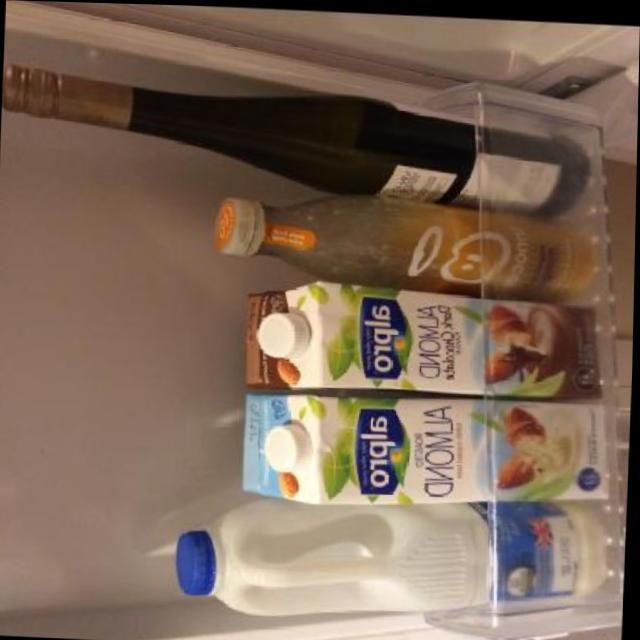cardboard: (236, 385, 615, 517), (236, 273, 604, 406)
glass: (1, 59, 595, 216), (209, 179, 599, 302)
plastic: (168, 476, 608, 637)
